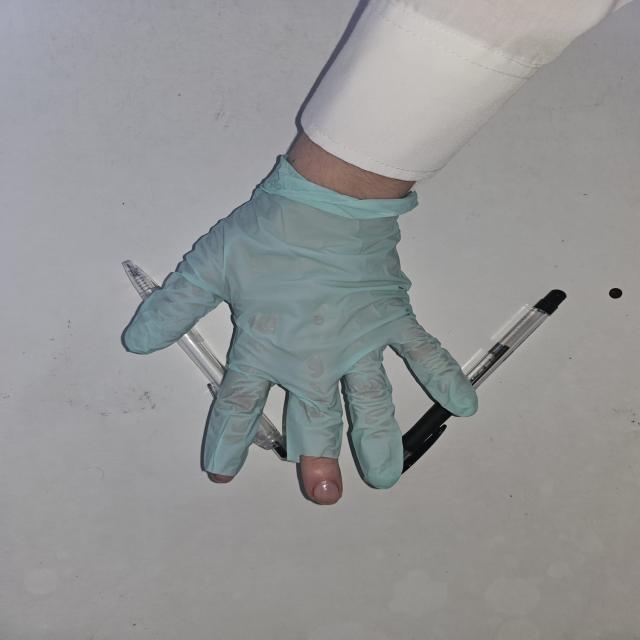gloves_damaged: (122, 147, 480, 504)
